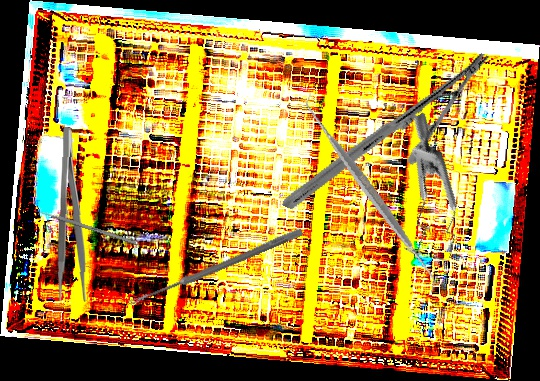Dressing Forceps: (55, 127, 91, 302)
Needle Holder: (281, 4, 491, 258)
Pusher: (30, 206, 137, 246)
Spatula Surgical: (268, 92, 474, 295)
Speculum: (345, 111, 504, 277)
Surgical Spoon: (127, 226, 304, 309)
